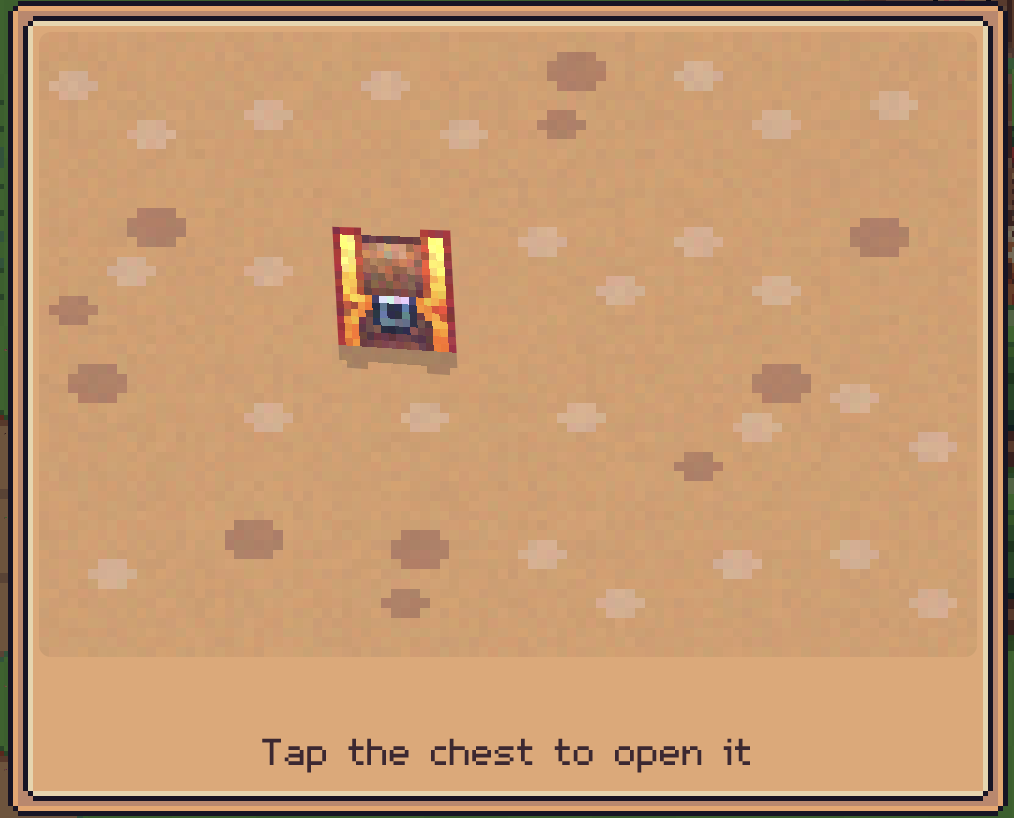capcha_chest: (330, 228, 459, 356)
